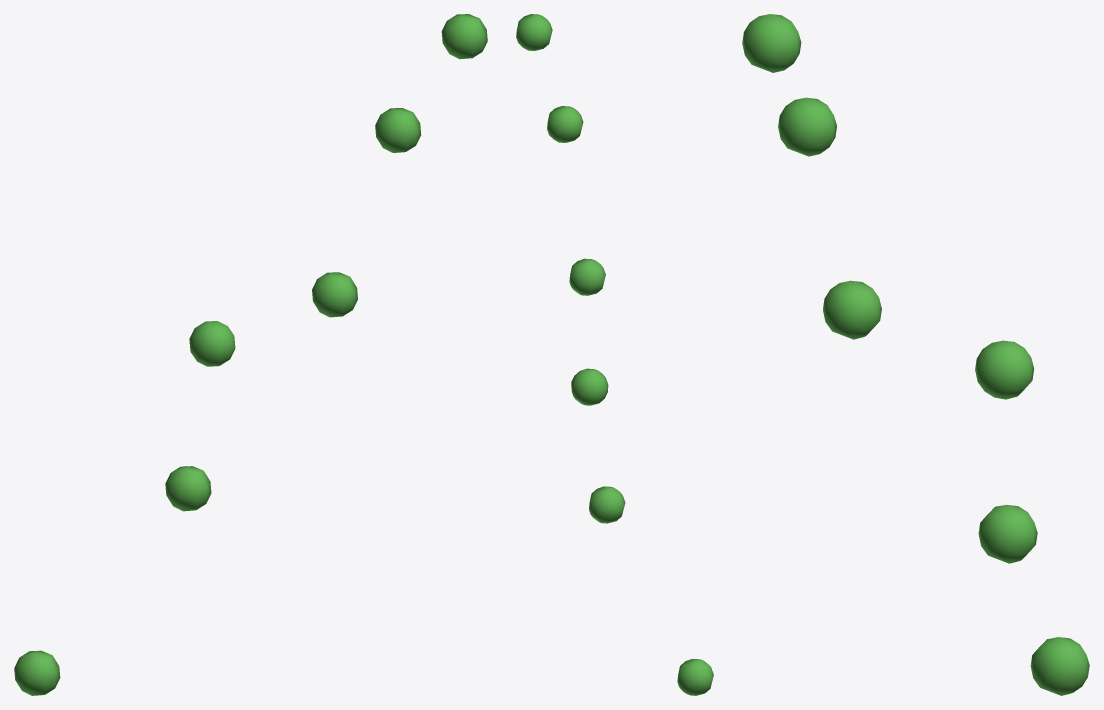
The model's file is linfatico-superficial-lateral-cervical-nodes-r.glb.
3 renders of one model, left to right at view 1: azimuth 30°, elevation 25°; view 2: azimuth 150°, elevation 25°; view 3: azimuth 270°, elevation 25°, orthographic. The views are drawn at different scales.
Parts seen in each view (by area): view 1: Superficial lateral cervical nodes.r; view 2: Superficial lateral cervical nodes.r; view 3: Superficial lateral cervical nodes.r.
Boxes of the visible parts, x1,y1,x2,y2 form: Superficial lateral cervical nodes.r: (14,14,487,695); Superficial lateral cervical nodes.r: (516,14,713,695); Superficial lateral cervical nodes.r: (742,14,1089,695).
Bounding box in the file's own units: 0.0225 × 0.0415 × 0.015.
